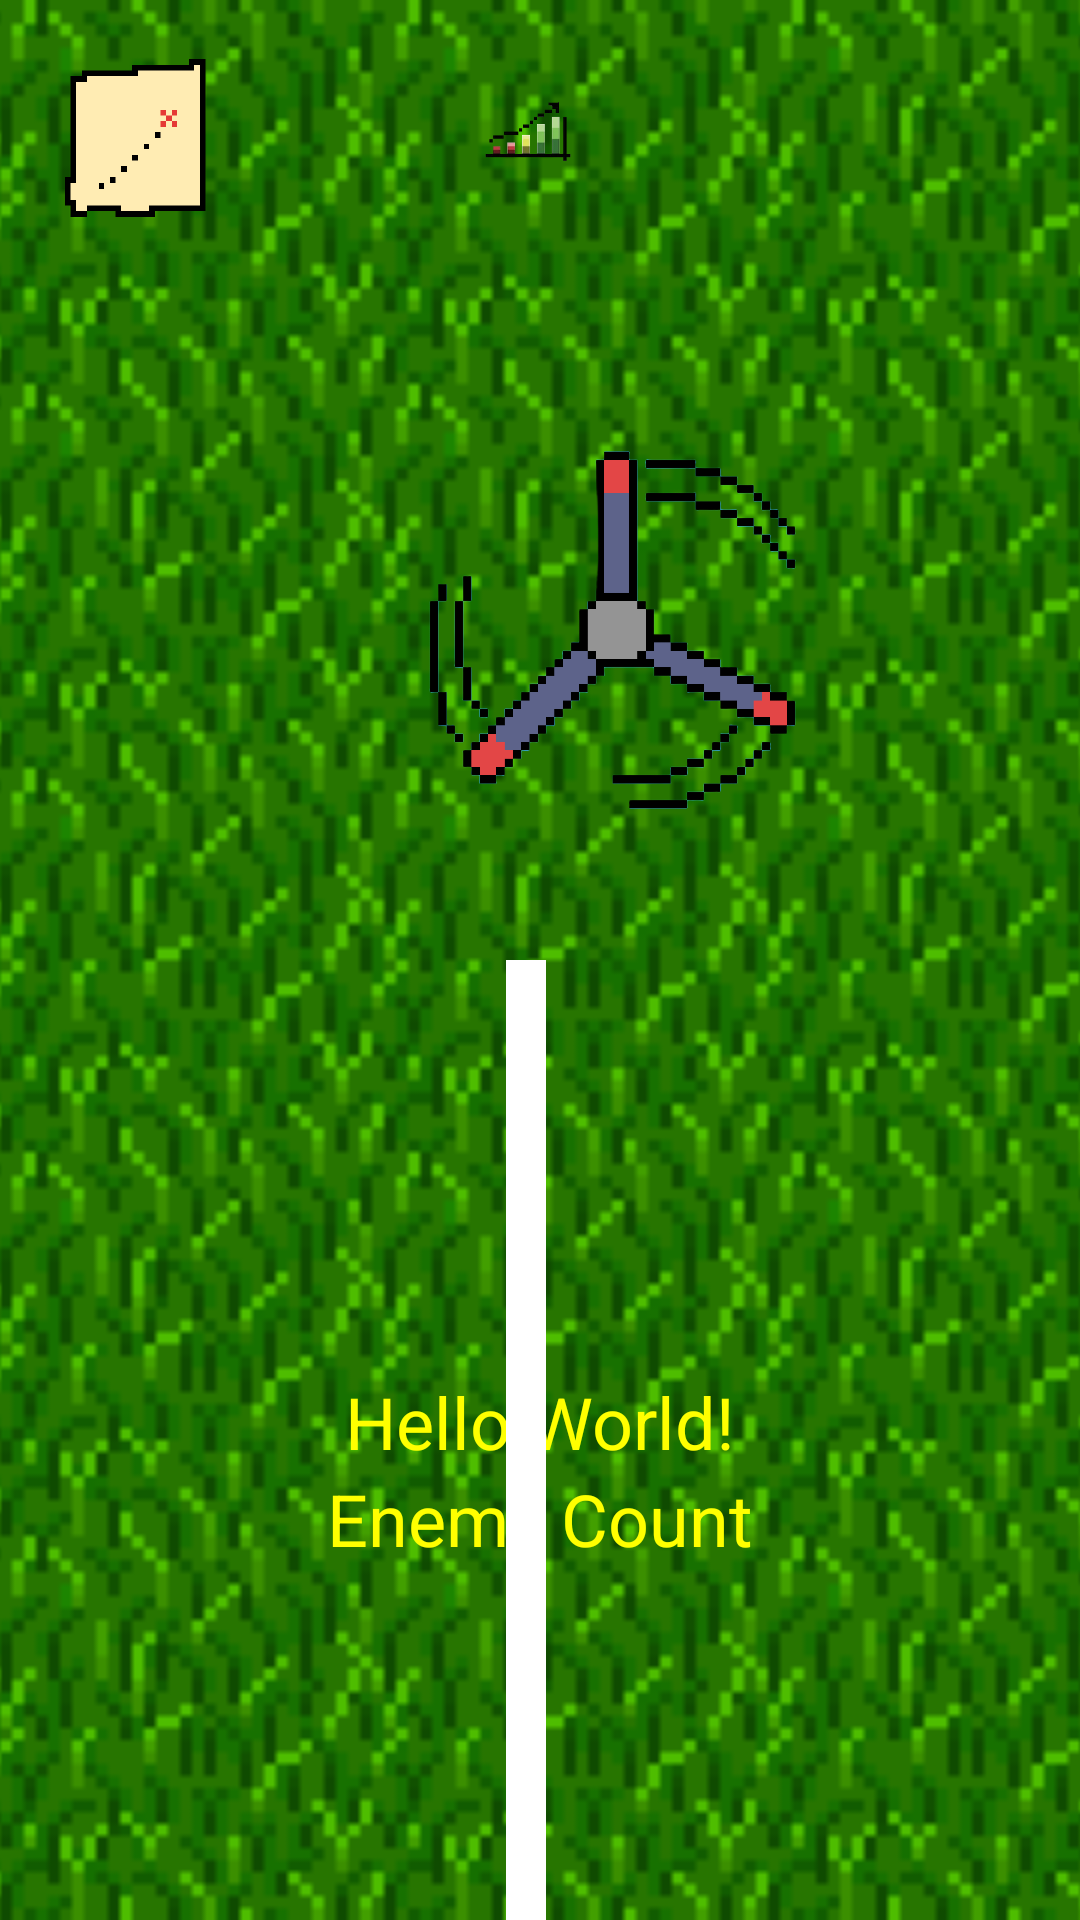

Locate icon controls on the screen. Image size 1080px x 1920px, boxes as (x1, y1, x2, y2).
world map: (48, 48, 228, 228)
